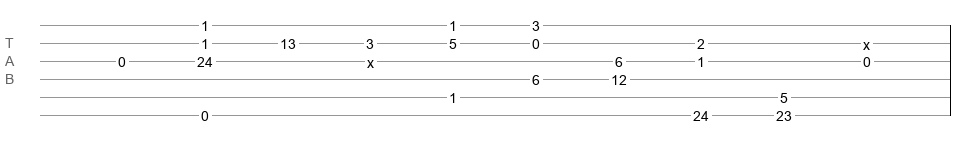0: (118, 54, 126, 64), (201, 108, 209, 118), (532, 36, 540, 46), (863, 54, 871, 64)
1: (201, 36, 209, 46), (201, 18, 209, 28), (449, 18, 457, 28), (449, 90, 457, 100), (697, 54, 705, 64)
12: (611, 72, 627, 82)
13: (280, 36, 296, 46)
2: (697, 36, 705, 46)
23: (776, 108, 792, 118)
24: (197, 54, 213, 64), (693, 108, 709, 118)
3: (366, 36, 374, 46), (532, 18, 540, 28)
5: (449, 36, 457, 46), (780, 90, 788, 100)
6: (532, 72, 540, 82), (615, 54, 623, 64)
x: (367, 55, 374, 63), (863, 37, 870, 45)
